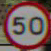Speed limit: (4, 0, 46, 42)
